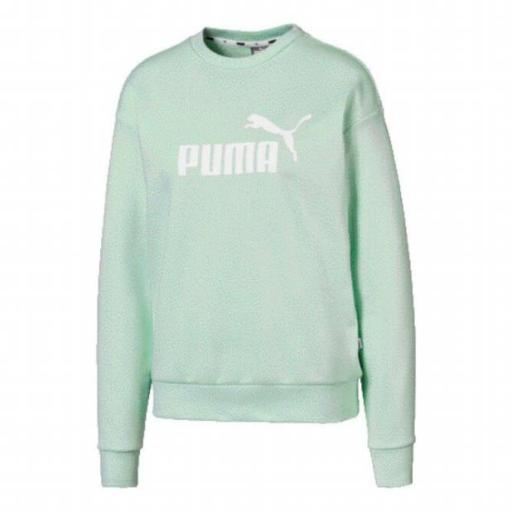Puma: (242, 108, 315, 165)
